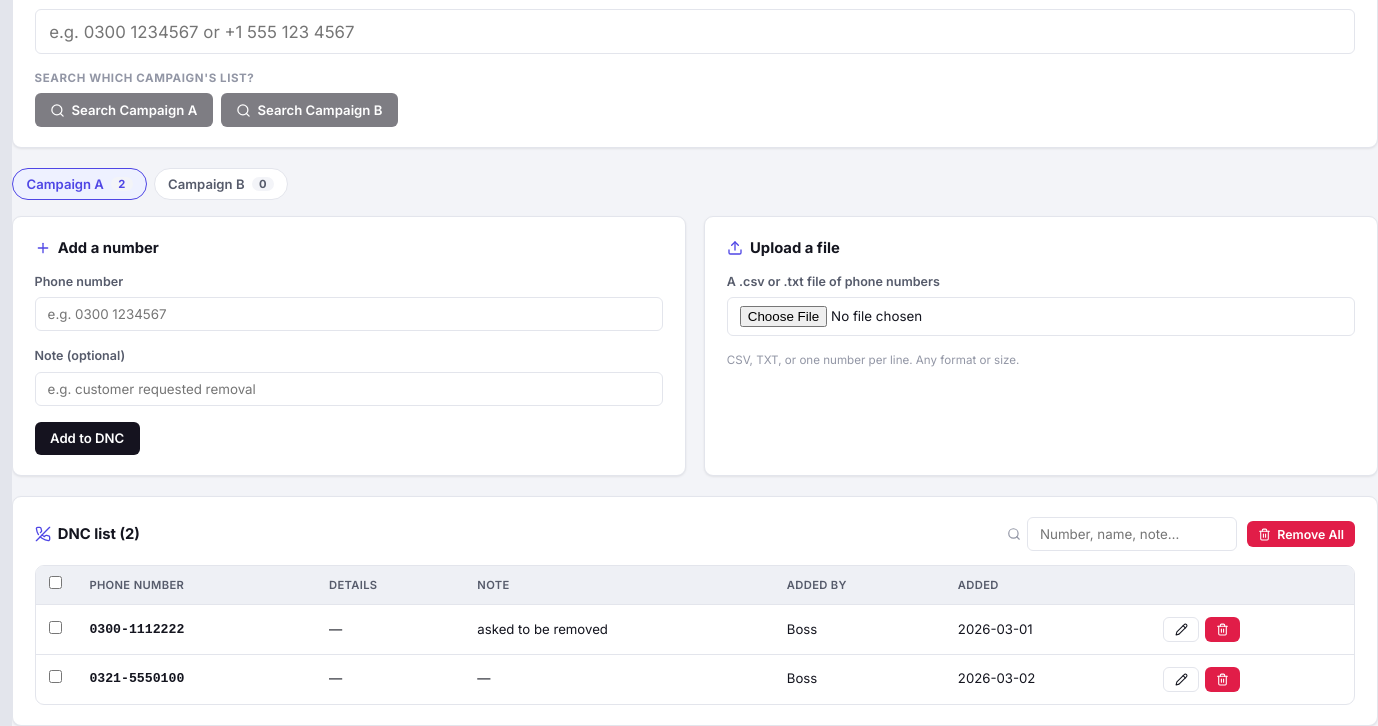
DncManagement › batch selection and delete › checking rows shows a bulk action bar with the count, and it disappears once cleared
The width and height of the screenshot is (1378, 726).
(page scrolled)
Expected: the text "0300-1112222" is shown, 76,605 -> 315,654
Expected: the text "selected" is not shown
Click the checkbox named "Select 0300-1112222" at (56, 627), box 49,621 -> 62,634
(page scrolled)
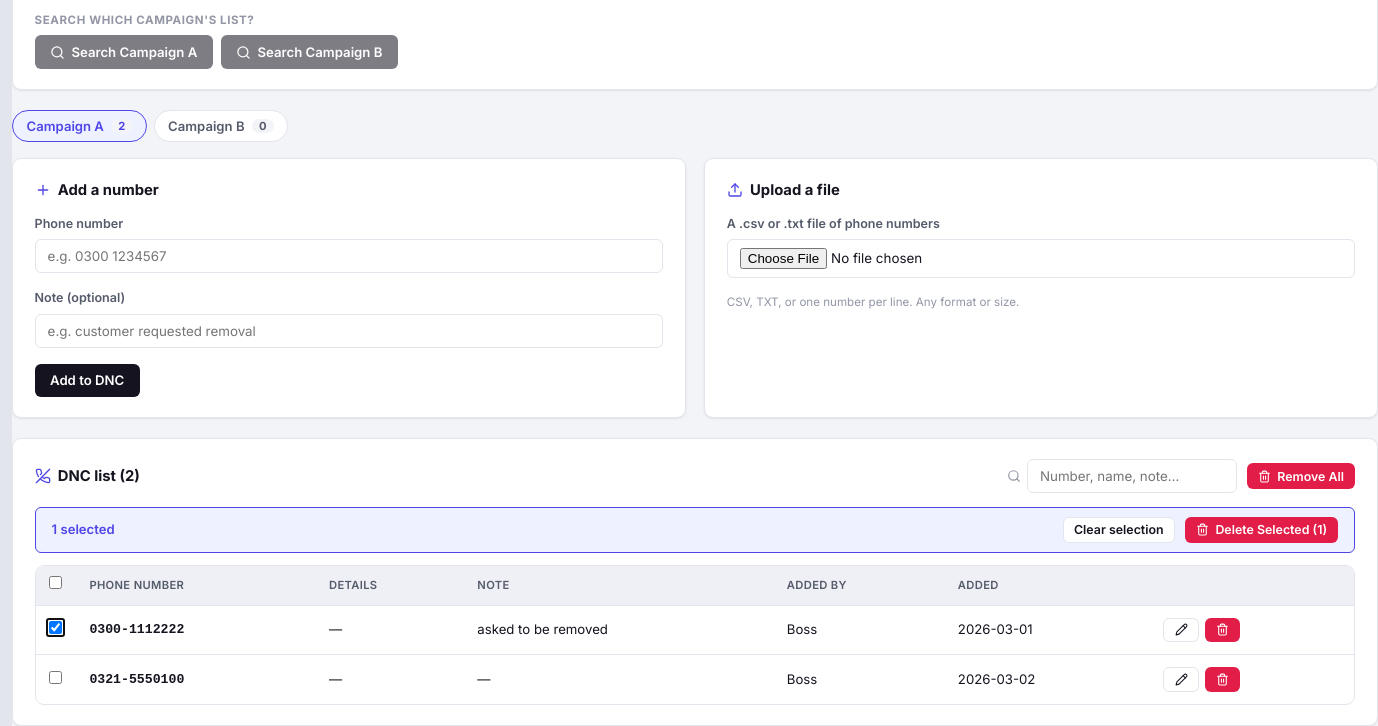
Now the text "1 selected" is shown, box 52,520 -> 115,540
Click the checkbox named "Select 0321-5550100" at (56, 677), box 49,670 -> 62,684
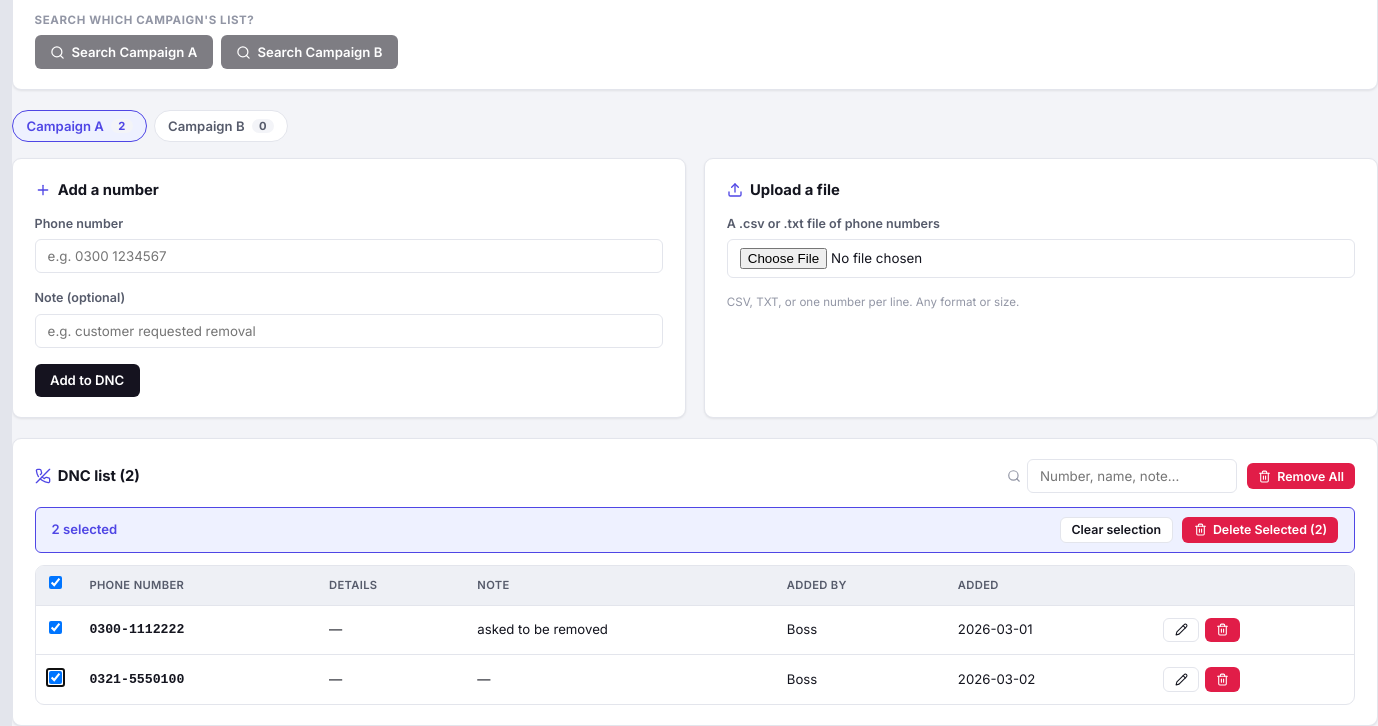
Now the text "2 selected" is shown, box 52,520 -> 117,540
Click the button "Clear selection" at (1116, 530), box 1060,516 -> 1172,543
(page scrolled)
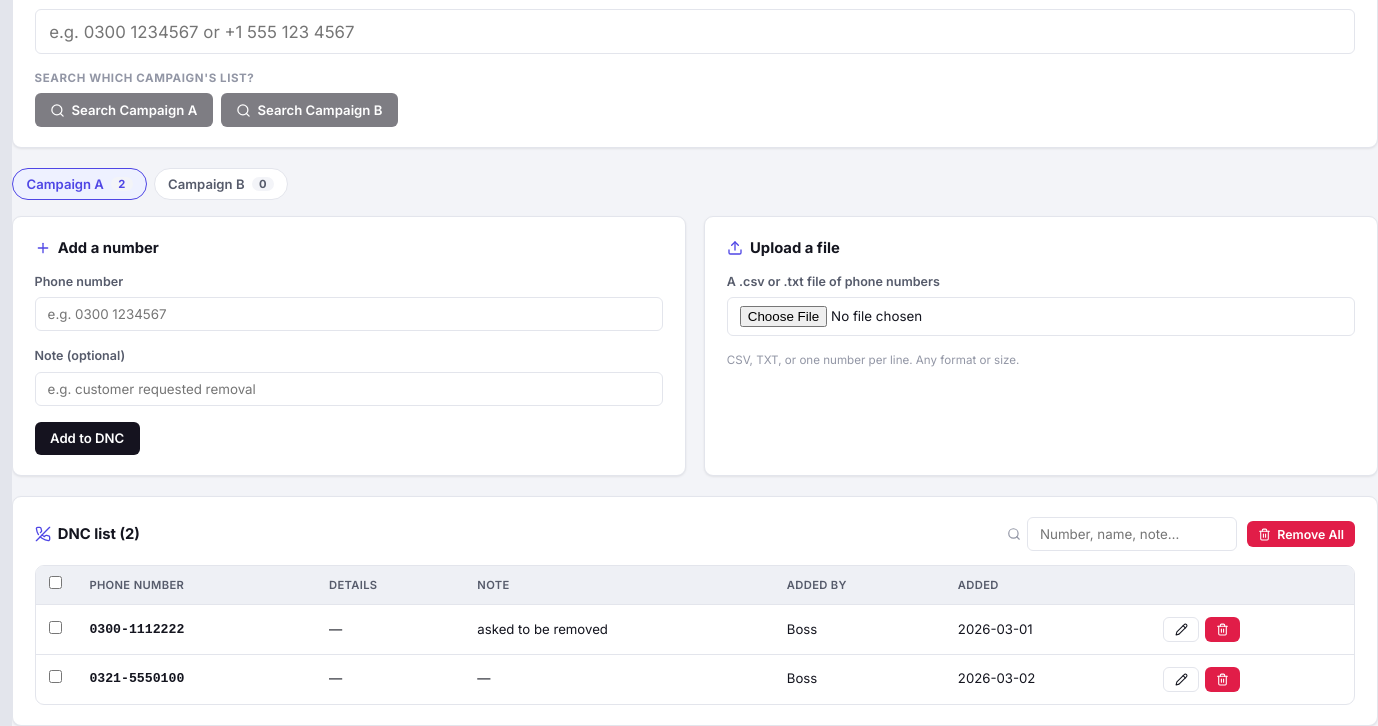
Now the text "selected" is gone
